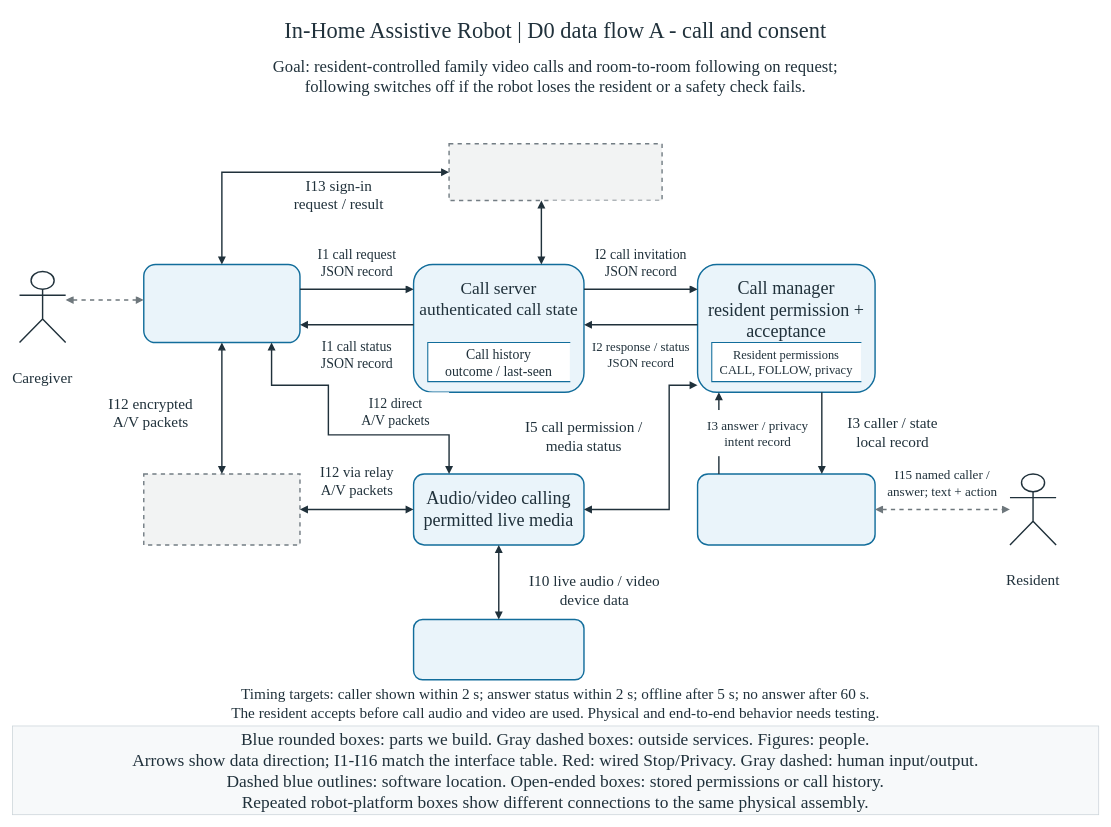
Some shapes in this 1111 by 827 pixel diagram are drawn without their labels. Here are the shapes that lost their labels. From the top down, the centre of each, then its label:
At point (555, 172): "Sign-in service account verification".
At point (623, 218): "I14 identity check request / result".
At point (102, 273): "I16 actions and A/V".
At point (221, 303): "Caregiver app request / call outcome".
At point (221, 509): "Optional media relay encrypted packets only".
At point (786, 509): "Resident controls caller / answer / camera state".
At point (498, 649): "Robot platform camera, mic, speaker, display".
